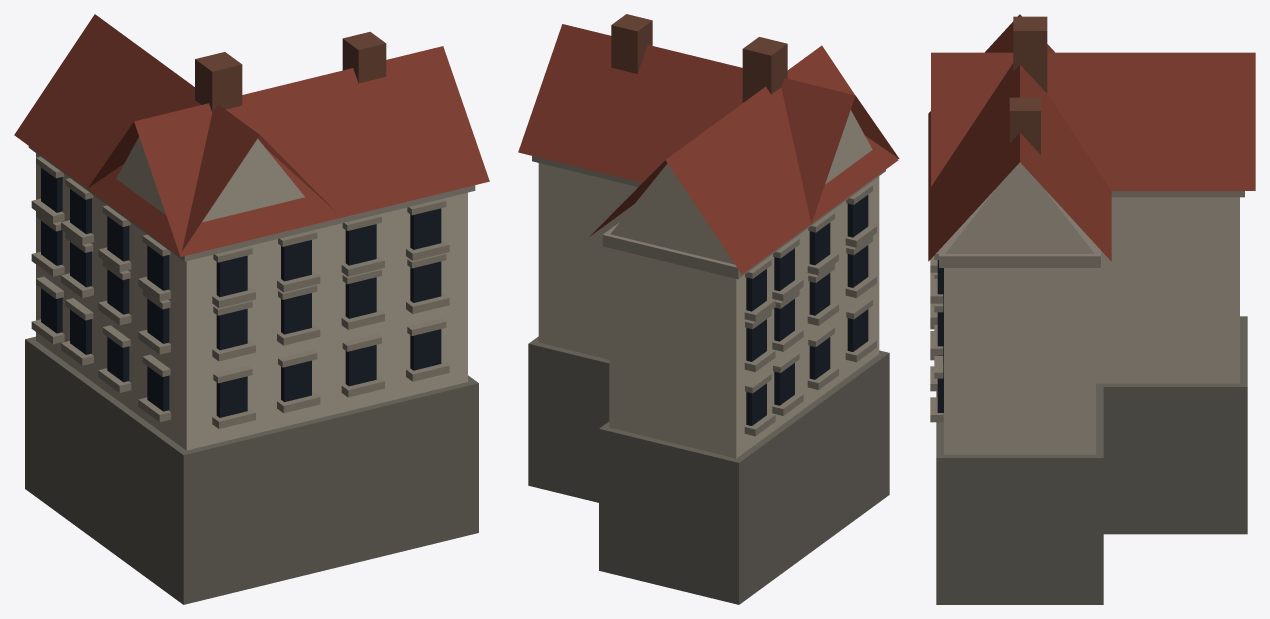
File: bldg_corner_block.glb
3 views of the same model, side by side, from view 1: azimuth 30°, elevation 25°; view 2: azimuth 150°, elevation 25°; view 3: azimuth 270°, elevation 25° (orthographic). The views are drawn at different scales.
Parts seen in each view (by area): view 1: CornerBlock; view 2: CornerBlock; view 3: CornerBlock.
Part boxes in pixels (box(x1,y1,x2,y2)): CornerBlock: box(14, 14, 489, 604); CornerBlock: box(518, 14, 899, 604); CornerBlock: box(928, 14, 1255, 604).
Size of the model in its own units: 1.34 by 2.02 by 1.25.
